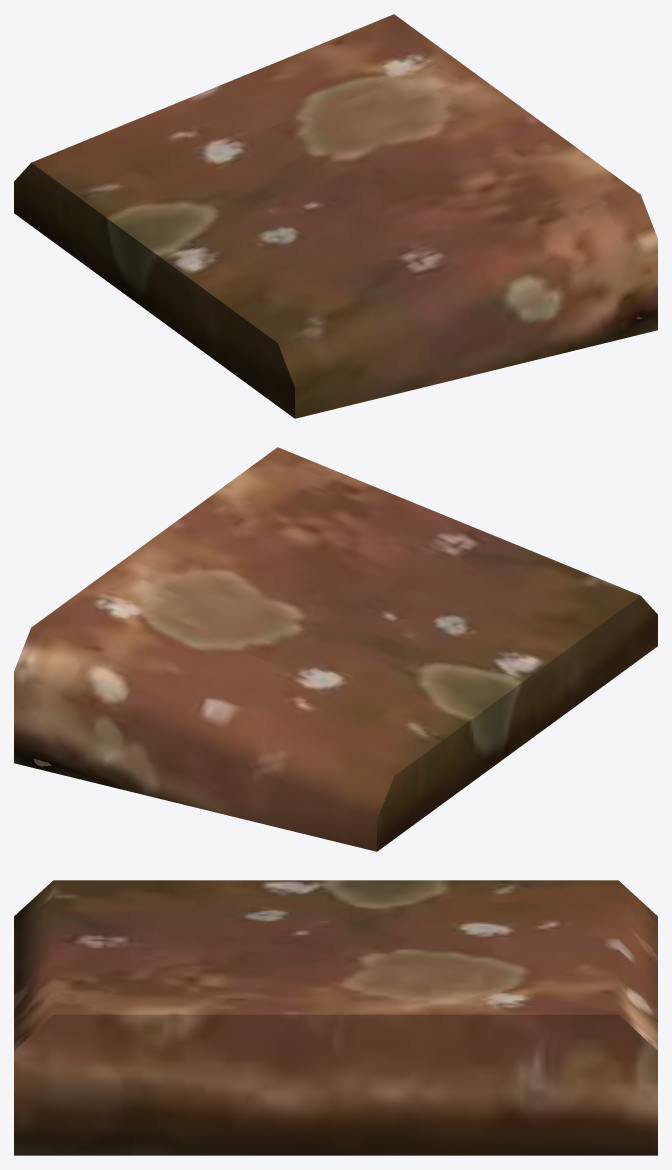
The picture shows the model from 3 angles, top to bottom: view 1: azimuth 30°, elevation 25°; view 2: azimuth 150°, elevation 25°; view 3: azimuth 270°, elevation 25°; orthographic projection. The views are drawn at different scales.
Visible parts, largest first — view 1: SM_SaradominTemple_Roof_Shingle_01_v1_LOD0; view 2: SM_SaradominTemple_Roof_Shingle_01_v1_LOD0; view 3: SM_SaradominTemple_Roof_Shingle_01_v1_LOD0.
Part boxes in pixels (x1,y1,x2,y2): SM_SaradominTemple_Roof_Shingle_01_v1_LOD0: [14, 14, 657, 418]; SM_SaradominTemple_Roof_Shingle_01_v1_LOD0: [14, 447, 657, 851]; SM_SaradominTemple_Roof_Shingle_01_v1_LOD0: [14, 880, 657, 1155].
Bounding box in the file's own units: 0.4405 × 0.1427 × 0.5904.
